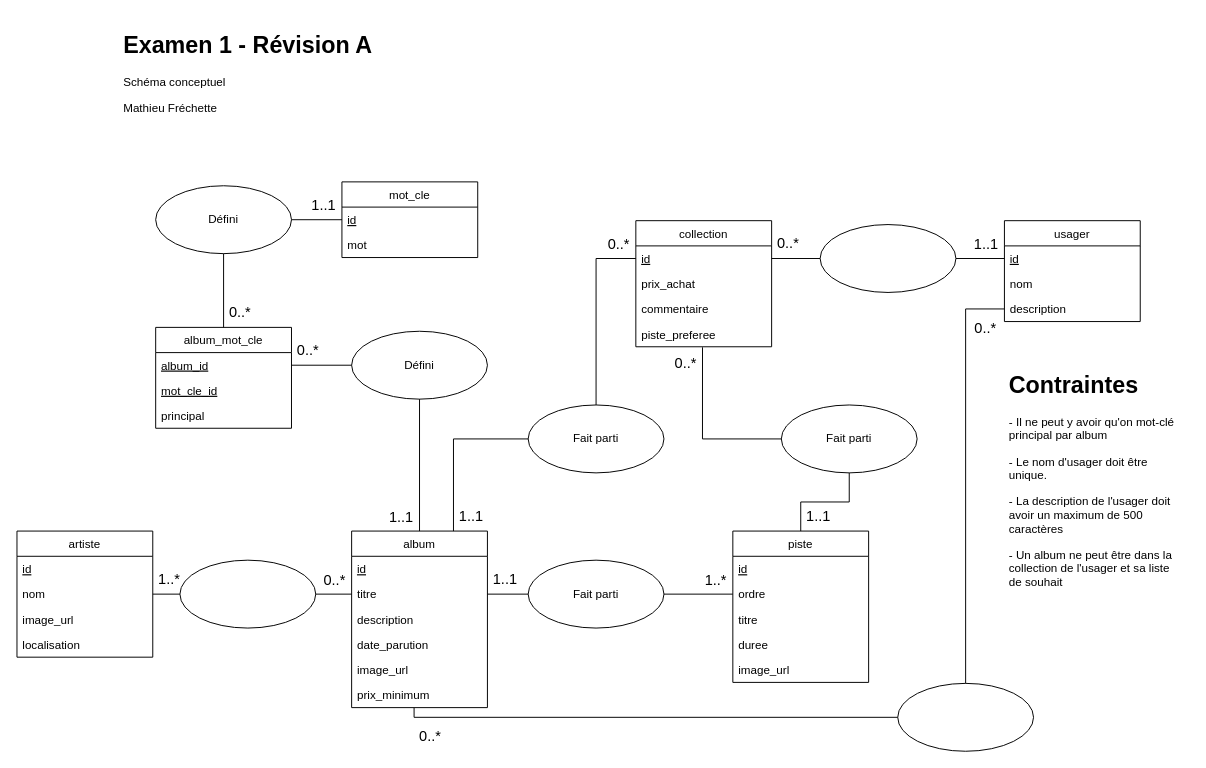
Image size: 1206x768. Some labels were removed from this diagram. Each missing label, with the centre of its shape:
"Compose" belongs at pixel 247 593.
"Possède" belongs at pixel 887 258.
"Souhaite" belongs at pixel 965 716.
